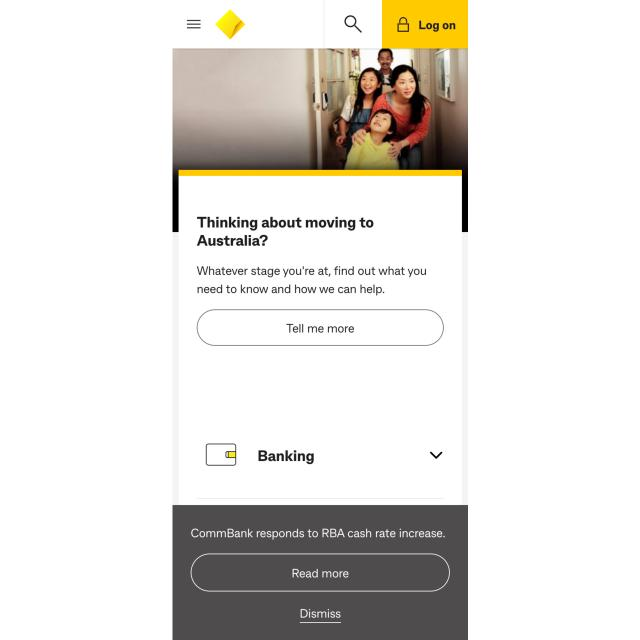logo: (214, 8, 247, 42)
navigation: (185, 16, 202, 32)
